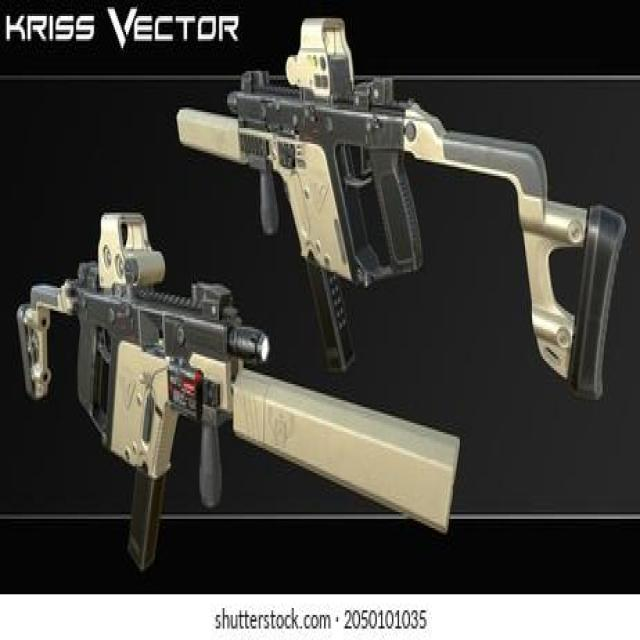weapon: (178, 18, 628, 407), (16, 208, 462, 571)
